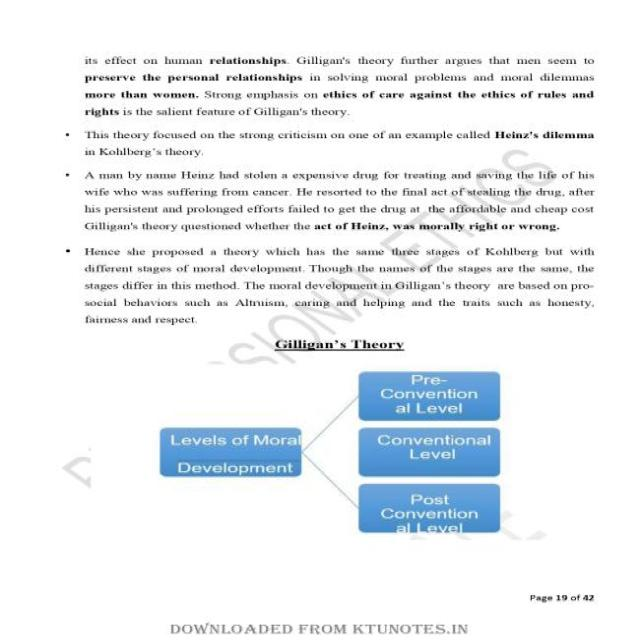Figure Detection - v3 Dataset Version2: (137, 363, 531, 552)
